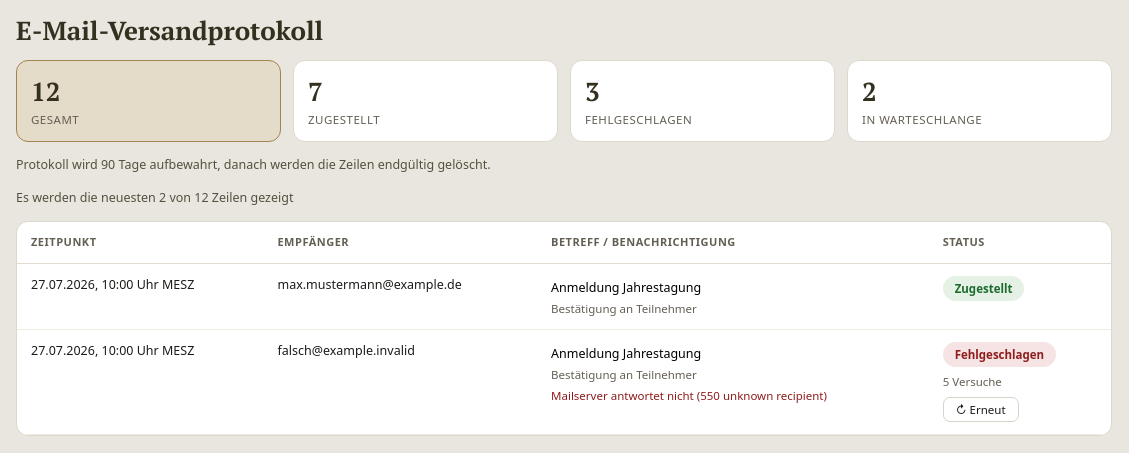
Test case: MailLogView › compares against the active filter, not against the grand total
The image size is (1129, 453).
expect the heading "E-Mail-Versandprotokoll" is shown: met, box [16,16,323,46]
Click the button with test id "kpi-failed".
click(639, 119)  # box [570,60,835,142]
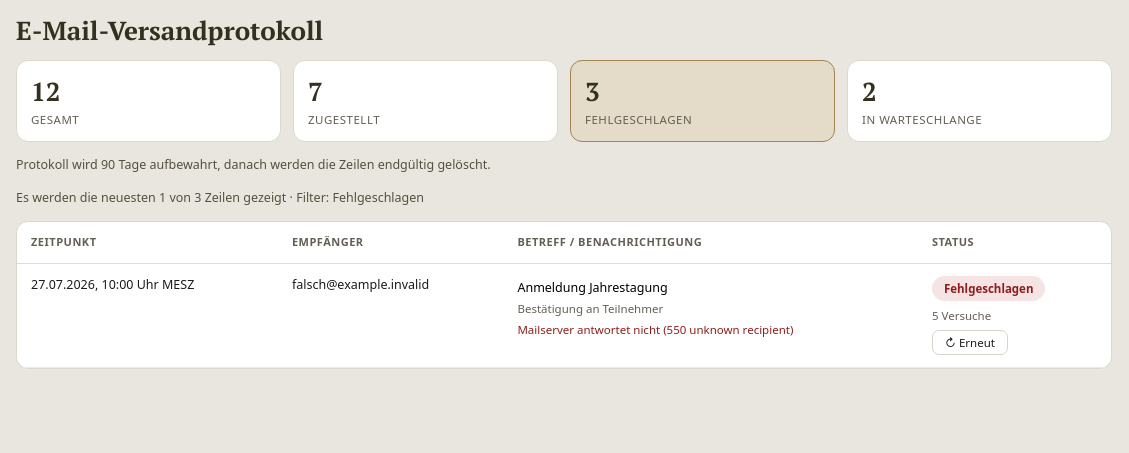
expect the message with test id "row-count" reads "Es werden die neuesten 1 von 3 Zeilen gezeigt · Filter: Fehlgeschlagen": met, box [16,189,424,206]
